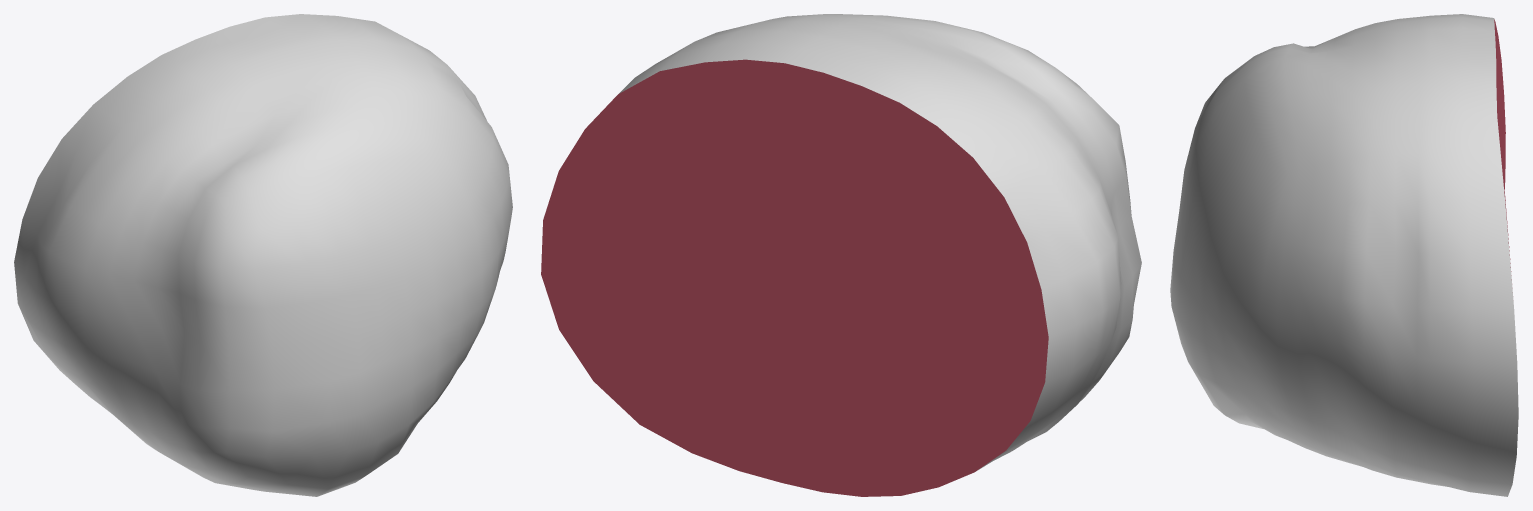
Rendered from potatopiece2.fbx.
3 renders of one model, left to right at view 1: azimuth 30°, elevation 25°; view 2: azimuth 150°, elevation 25°; view 3: azimuth 270°, elevation 25°, orthographic. The views are drawn at different scales.
Visible parts, largest first — view 1: Potatopiece; view 2: Potatopiece; view 3: Potatopiece.
Part boxes in pixels (x1,y1,x2,y2): Potatopiece: [14, 14, 512, 496]; Potatopiece: [541, 14, 1141, 496]; Potatopiece: [1170, 14, 1518, 496].
Size of the model in its own units: 6.04 by 4.78 by 3.73.
